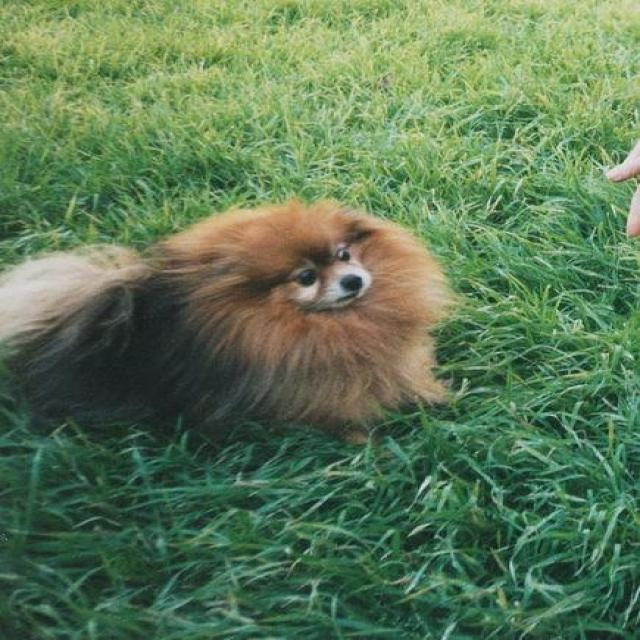adult_dog: (1, 198, 459, 448)
